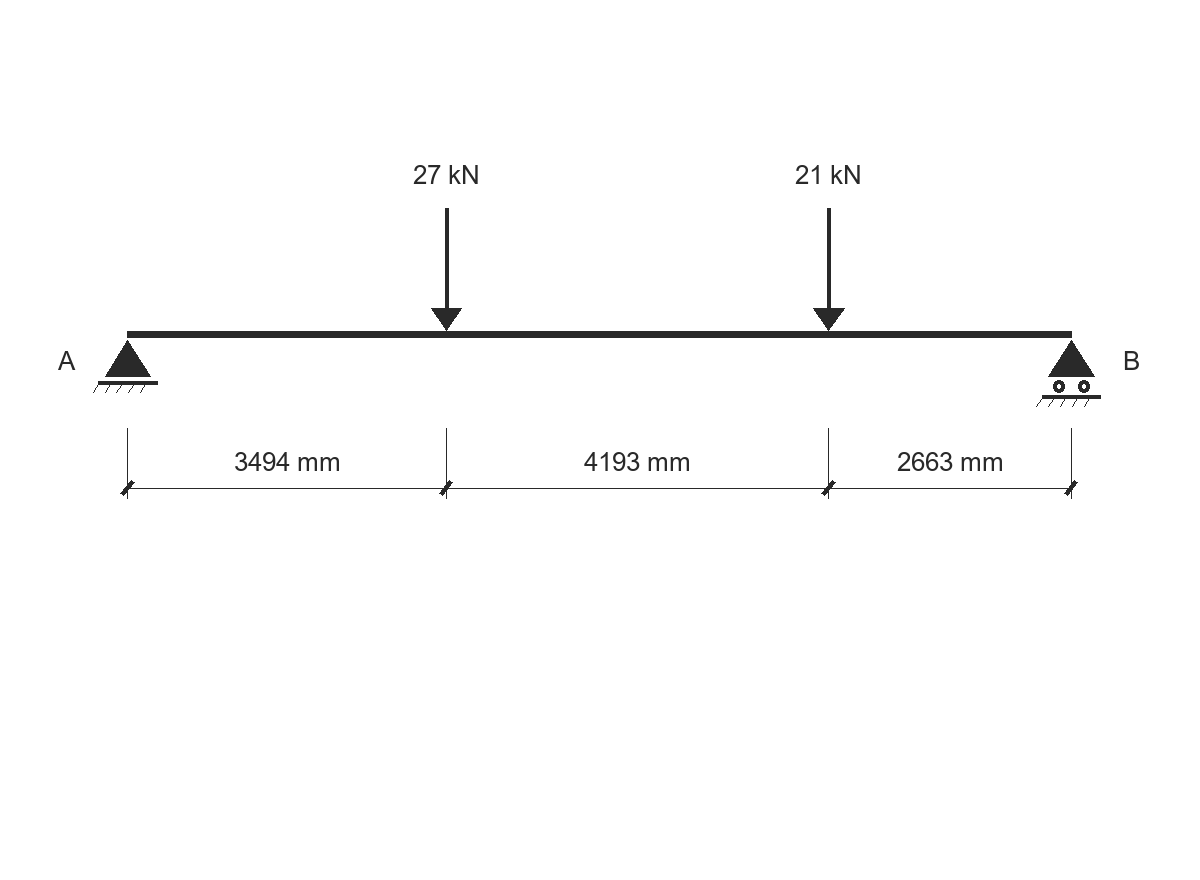pin_support: (93, 340, 158, 393)
point_load: (813, 208, 845, 331), (431, 208, 462, 331)
roller_support: (1036, 340, 1101, 407)
